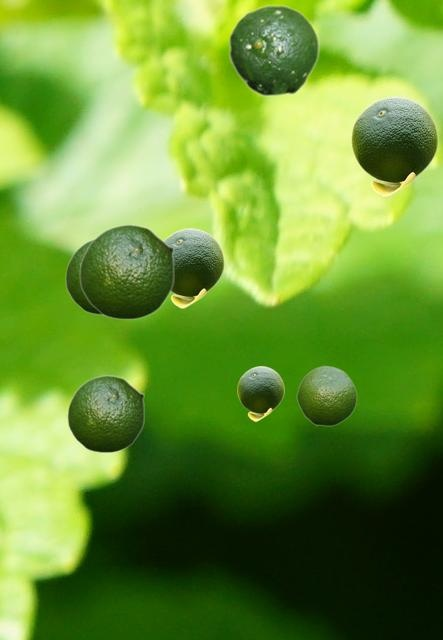calamansi: (79, 224, 174, 319), (351, 96, 437, 196), (228, 4, 319, 96), (67, 375, 144, 452), (164, 228, 223, 307), (296, 365, 356, 425), (65, 238, 100, 314), (237, 366, 283, 420)
